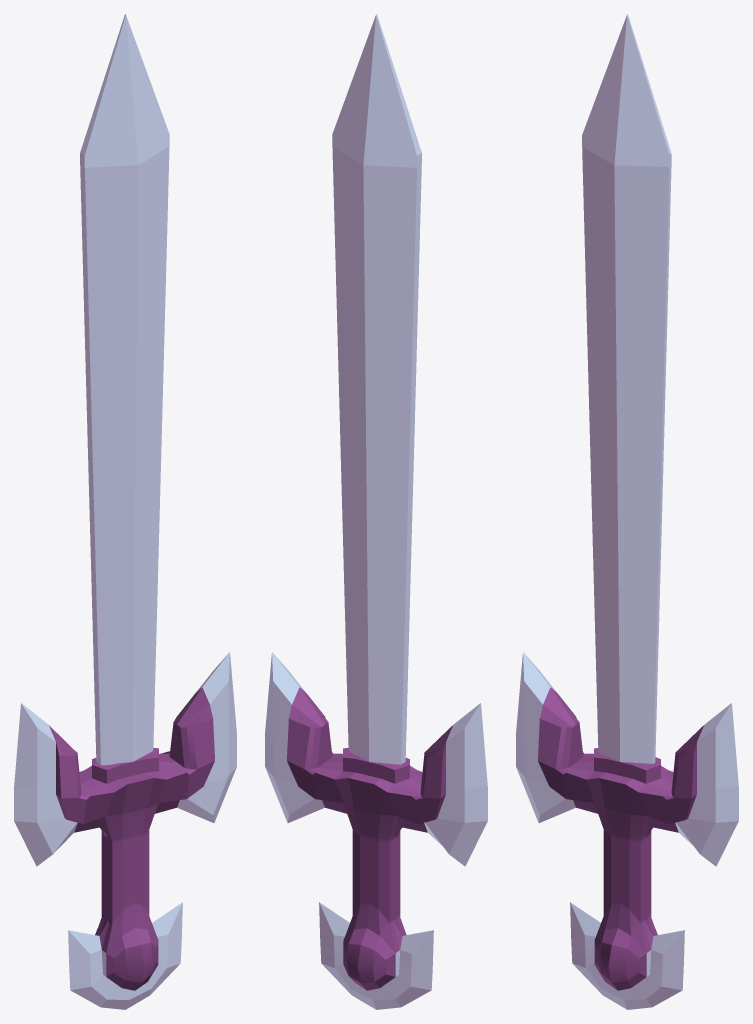
File: finalSword.fbx
3 renders of one model, left to right at view 1: azimuth 30°, elevation 25°; view 2: azimuth 150°, elevation 25°; view 3: azimuth 330°, elevation 25°, orthographic.
Parts seen in each view (by area): view 1: blade, hilt; view 2: blade, hilt; view 3: blade, hilt.
Part boxes in pixels (<box>): blade: <box>80,14,169,765</box>; hilt: <box>14,652,236,1009</box>; blade: <box>332,14,421,764</box>; hilt: <box>265,652,487,1009</box>; blade: <box>582,14,671,763</box>; hilt: <box>516,652,738,1009</box>.
Size of the model in its own units: 12.81 by 54.71 by 3.79.
